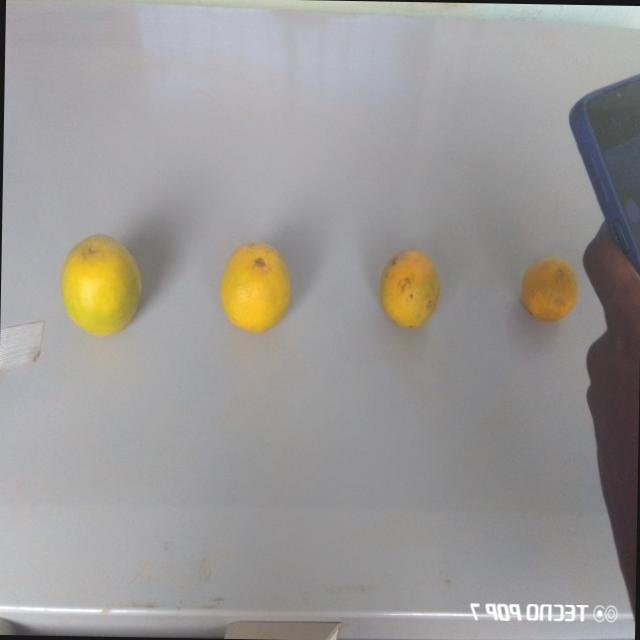agrume: (55, 229, 146, 344), (213, 235, 293, 341), (374, 244, 448, 332), (522, 260, 578, 326)
